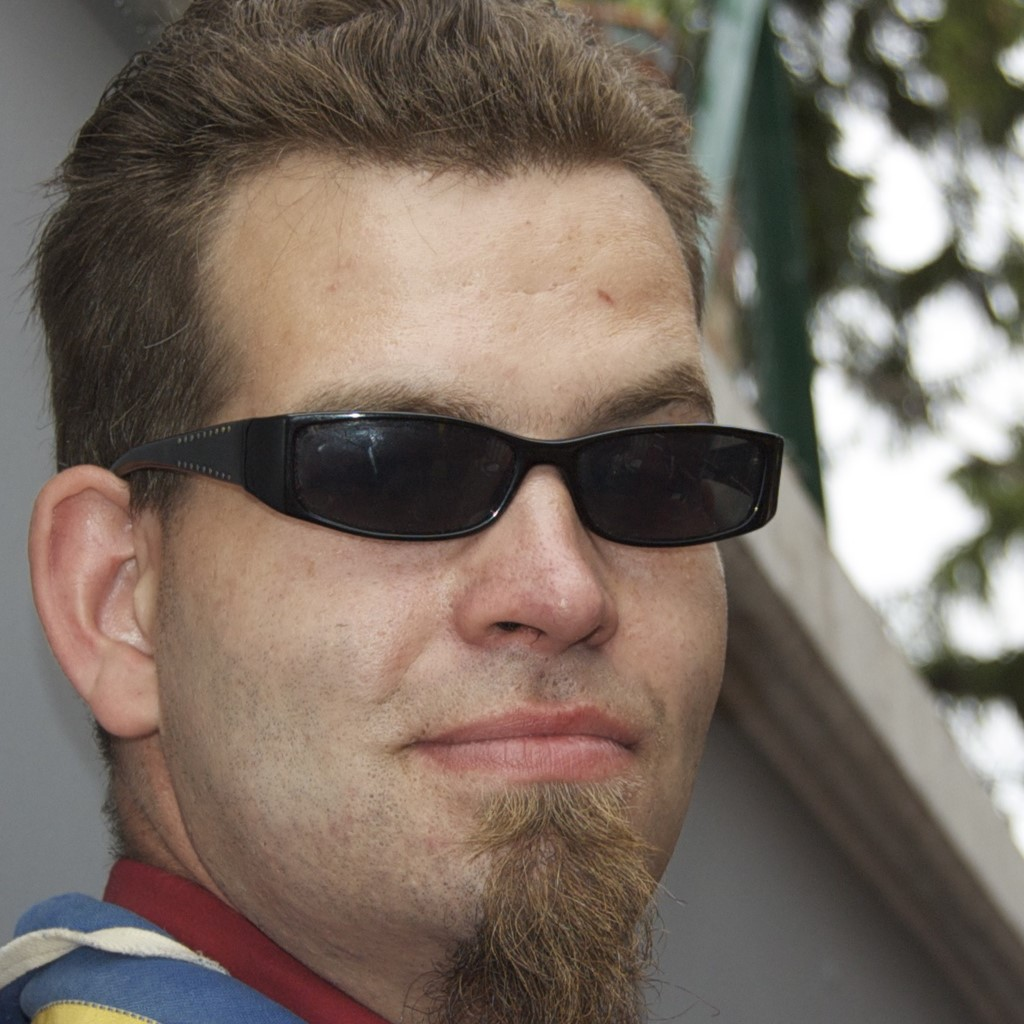sin_mascara: (106, 57, 696, 981)
